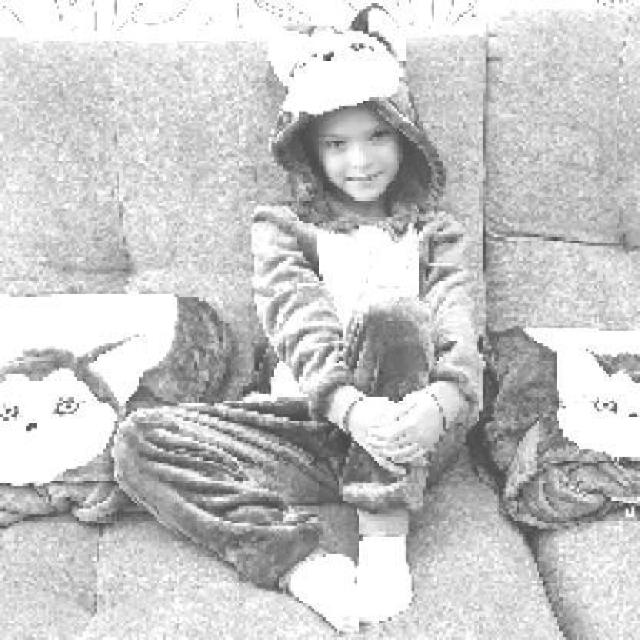child: (110, 2, 487, 628)
